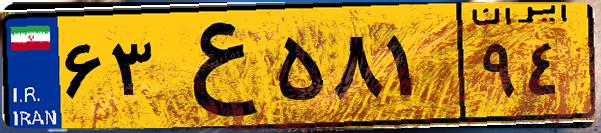1: (385, 28, 445, 110)
3: (110, 28, 158, 98)
4: (525, 38, 570, 115)
5: (270, 28, 330, 110)
6: (57, 26, 110, 100)
8: (330, 28, 385, 110)
9: (475, 38, 525, 113)
ع: (158, 12, 270, 120)
